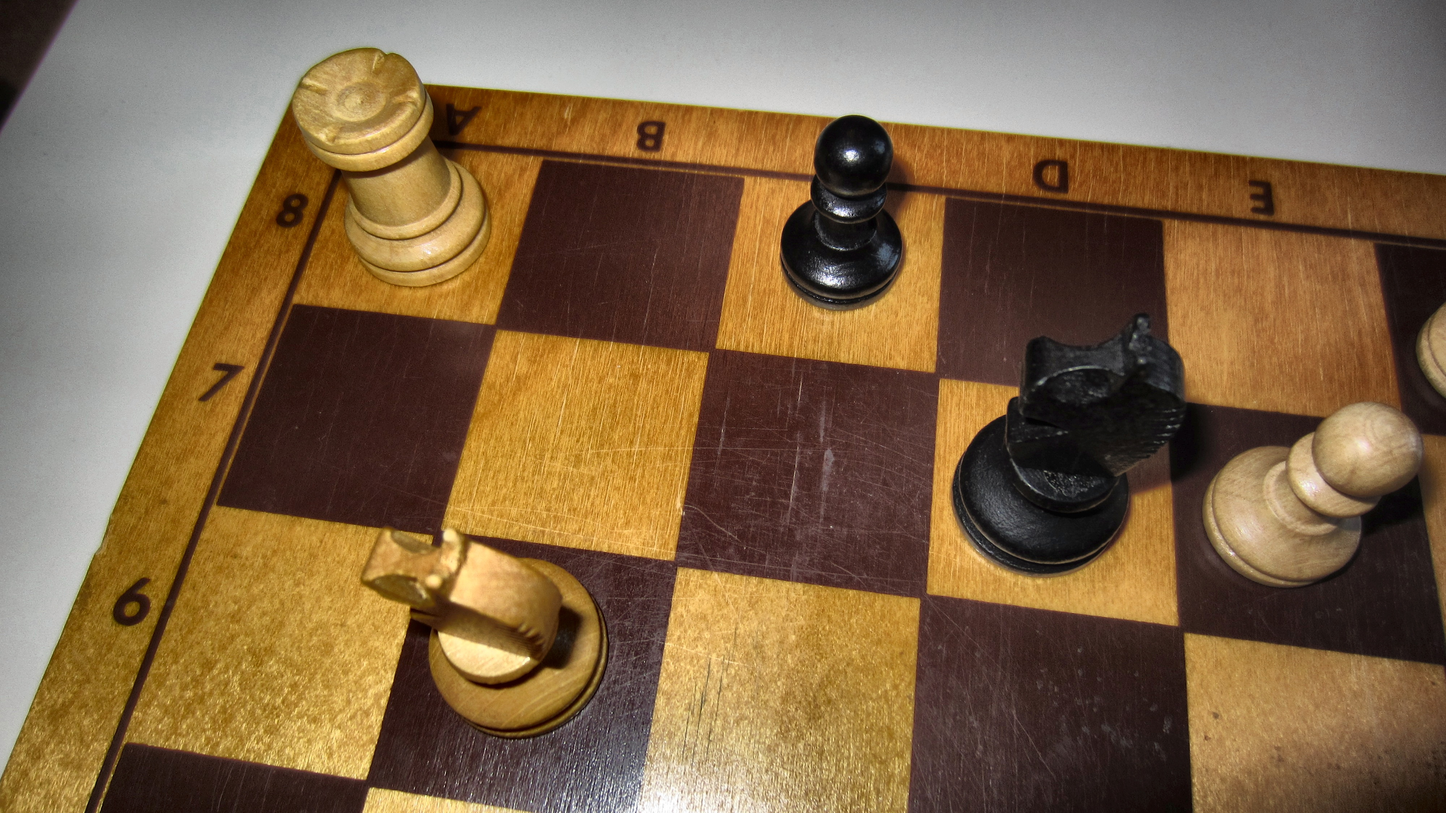black-knight: (950, 312, 1189, 580)
black-pawn: (778, 114, 906, 312)
white-knight: (358, 524, 616, 741)
white-pawn: (1201, 400, 1424, 589)
white-rook: (286, 44, 497, 290)
